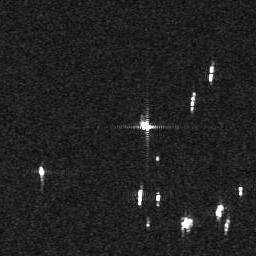ship: (137, 119, 157, 131), (188, 90, 197, 114), (216, 202, 224, 219), (38, 165, 46, 181), (208, 64, 215, 82), (137, 187, 143, 206), (237, 184, 243, 195), (155, 192, 161, 202)
